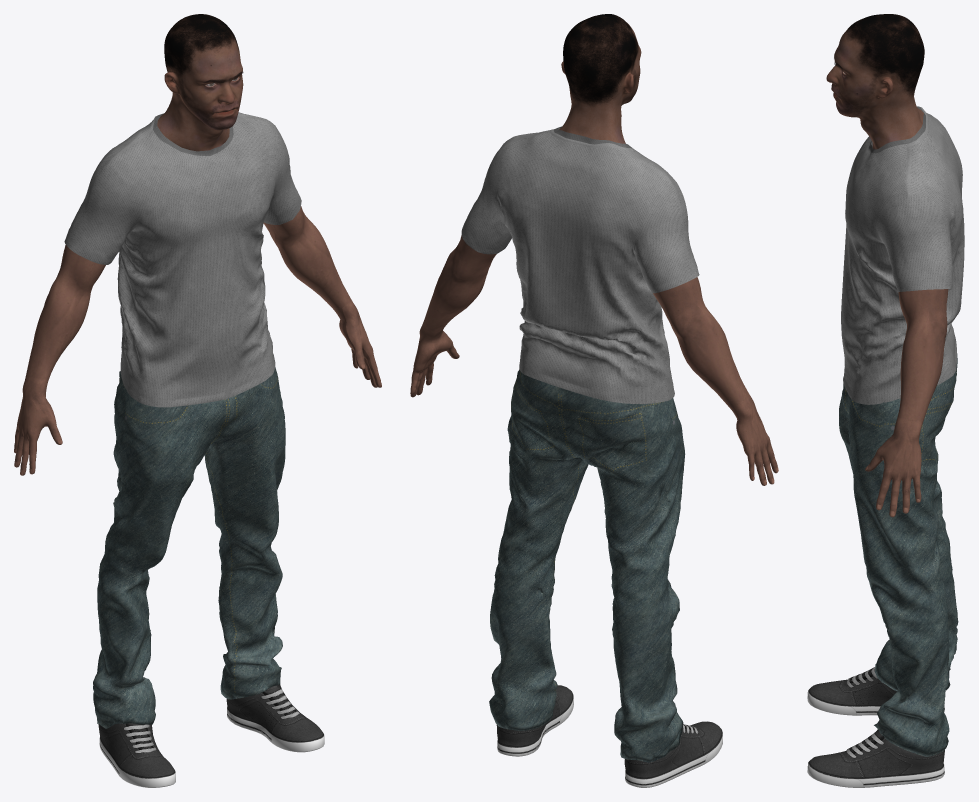
The model's file is him.glb.
3 views of the same model, side by side, from view 1: azimuth 30°, elevation 25°; view 2: azimuth 150°, elevation 25°; view 3: azimuth 270°, elevation 25° (orthographic).
Parts seen in each view (by area): view 1: Object_5, Object_6, Object_9, Object_12, Object_10; view 2: Object_6, Object_5, Object_9, Object_12, Object_10; view 3: Object_6, Object_5, Object_12, Object_9, Object_10, Object_8, Object_7.
Part boxes in pixels (x1=…): Object_5: x1=64, y1=112, x2=301, y2=407; Object_6: x1=93, y1=359, x2=285, y2=728; Object_9: x1=14, y1=206, x2=381, y2=475; Object_12: x1=157, y1=14, x2=243, y2=151; Object_10: x1=98, y1=684, x2=324, y2=787; Object_6: x1=489, y1=370, x2=685, y2=762; Object_5: x1=461, y1=128, x2=699, y2=403; Object_9: x1=410, y1=235, x2=778, y2=485; Object_12: x1=559, y1=14, x2=641, y2=143; Object_10: x1=496, y1=685, x2=722, y2=787; Object_6: x1=839, y1=353, x2=958, y2=756; Object_5: x1=841, y1=107, x2=964, y2=404; Object_12: x1=826, y1=14, x2=924, y2=149; Object_9: x1=865, y1=289, x2=948, y2=517; Object_10: x1=807, y1=667, x2=944, y2=787; Object_8: x1=906, y1=106, x2=928, y2=193; Object_7: x1=869, y1=106, x2=925, y2=153.
Bounding box in the file's own units: 4.49 × 8.79 × 1.72.
Materials: 12 (11 with a texture image).
